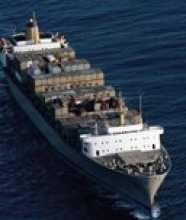Cargoship: (4, 14, 171, 204)
